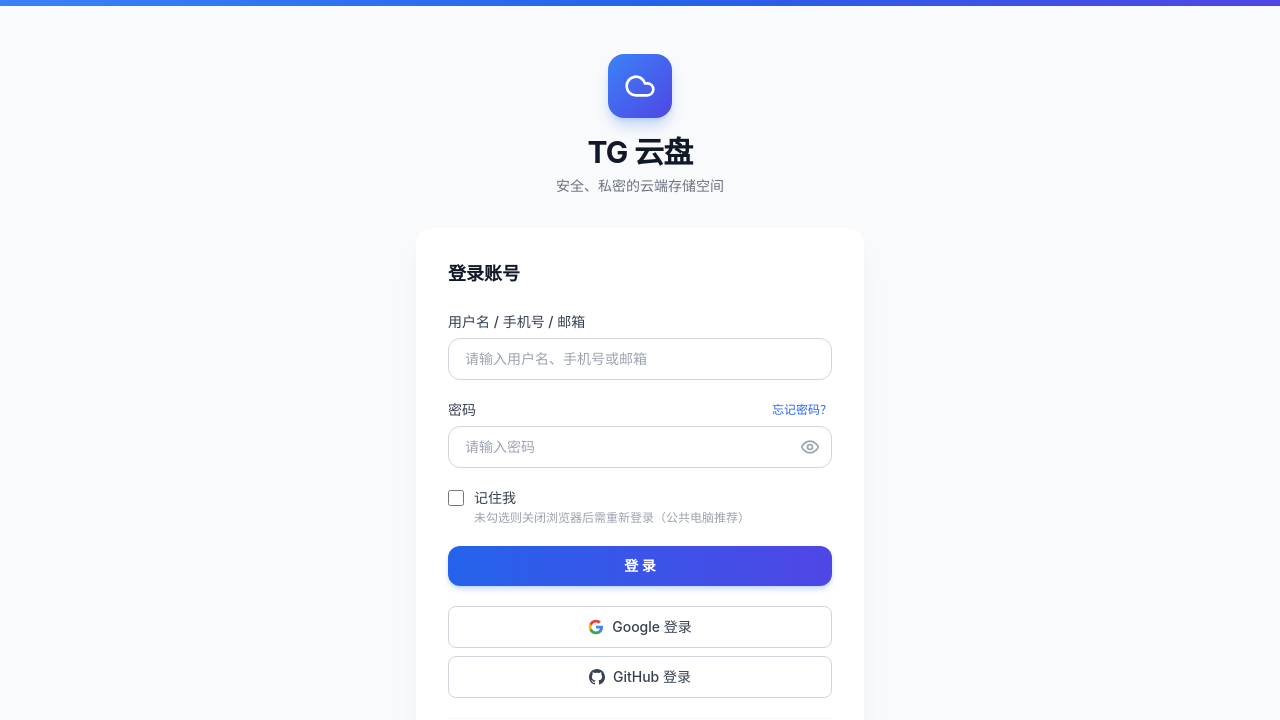
Test: Login page › opens forgot modal on link click
This screenshot has width=1280, height=720.
Click the button "忘记密码？". click: click(802, 410)
box: [772,402,832,418]
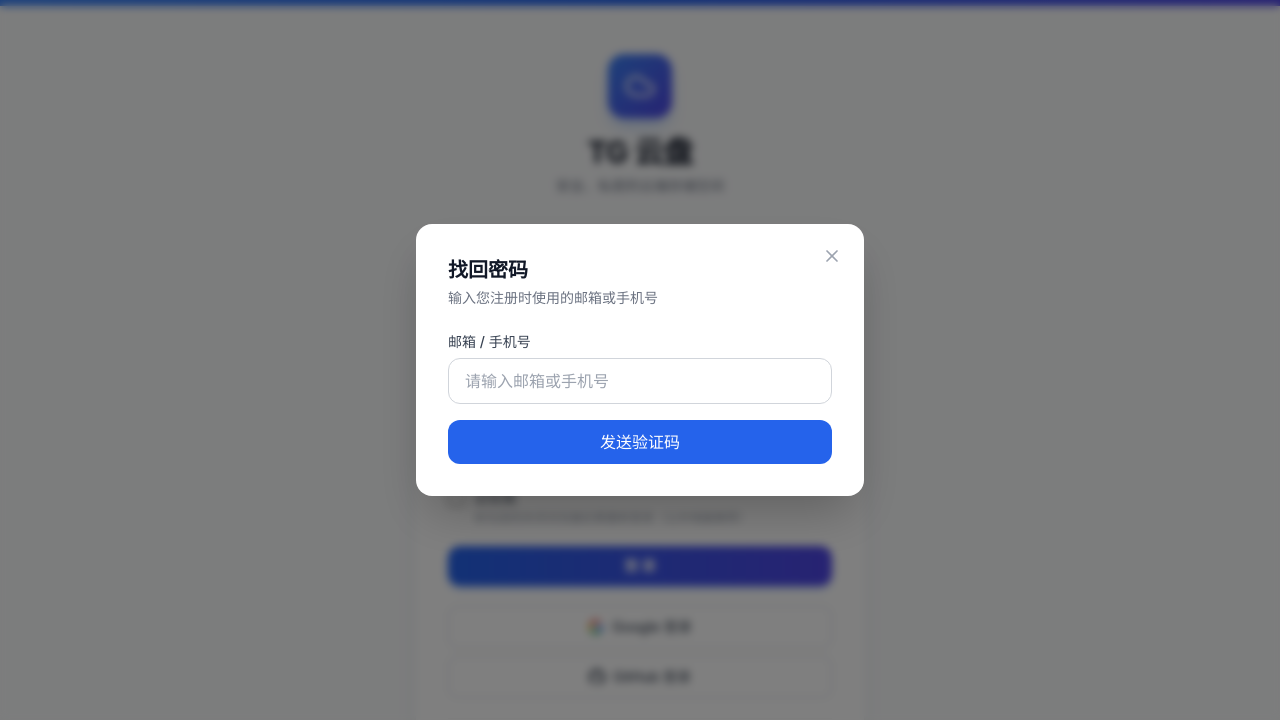
Now the heading "找回密码" is shown, box [448,258,528,282]
